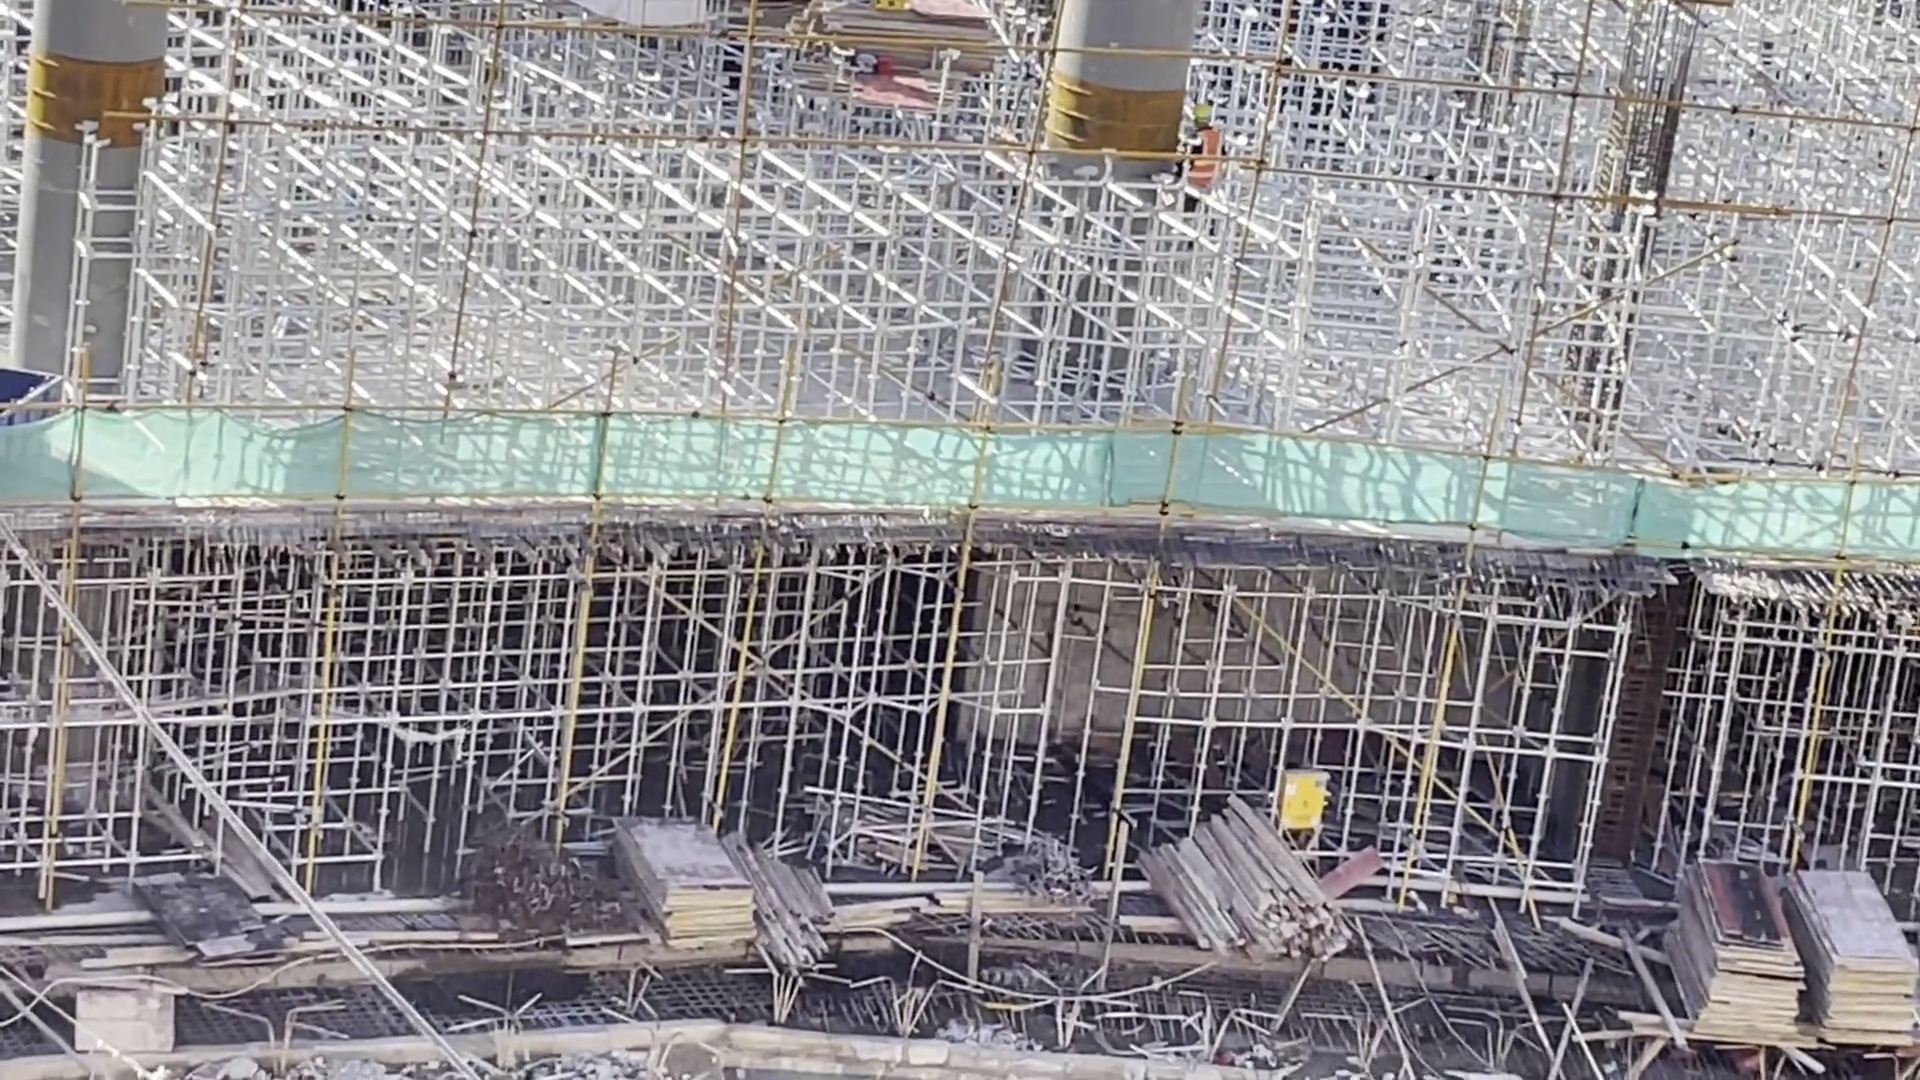board: (1662, 853, 1798, 1048), (1803, 865, 1920, 1058), (603, 812, 747, 956), (791, 1, 1000, 89)
ebox: (1273, 764, 1326, 854)
helmet: (1192, 101, 1213, 124)
hopper: (1, 363, 72, 431)
person: (1177, 102, 1223, 222)
vest: (1184, 129, 1225, 197)
wood: (1136, 790, 1341, 965)
